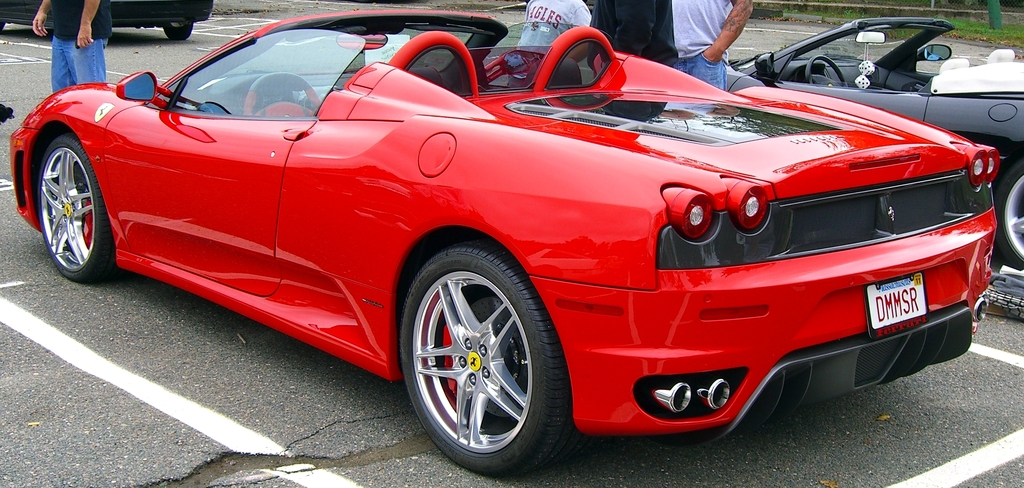Car: (9, 10, 1000, 476), (723, 17, 1024, 272), (0, 0, 212, 39)
